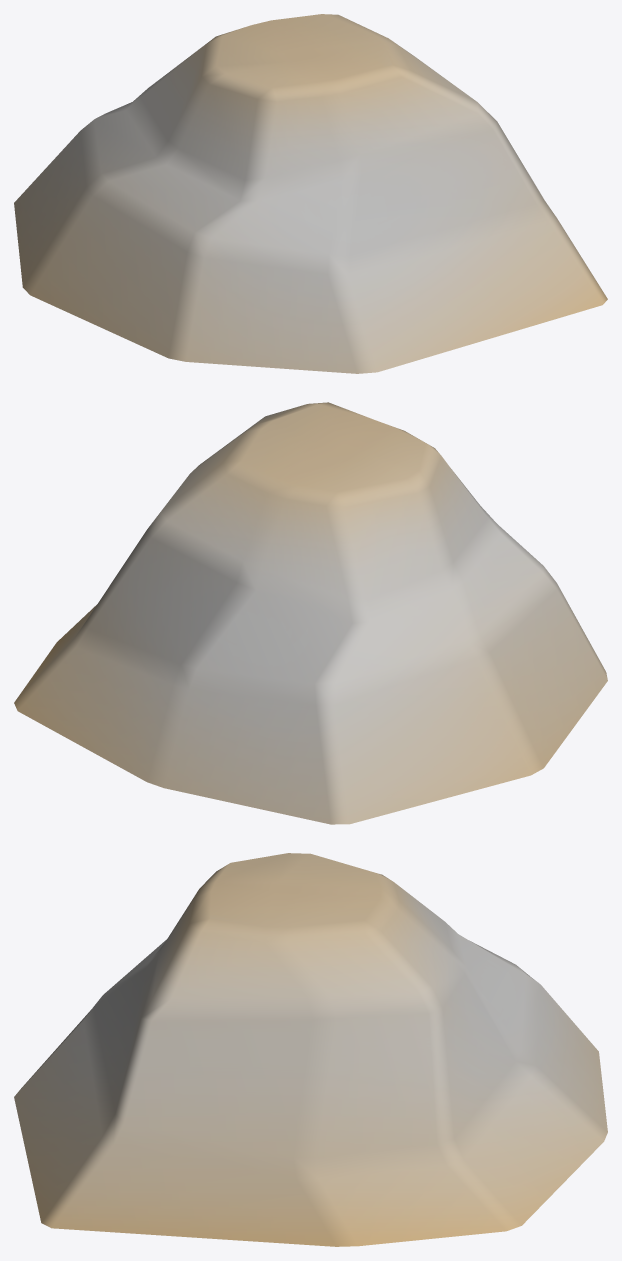
Rendered from stone_smallB__v2.fbx.
3 renders of one model, top to bottom at view 1: azimuth 30°, elevation 25°; view 2: azimuth 150°, elevation 25°; view 3: azimuth 270°, elevation 25°, orthographic. The views are drawn at different scales.
Visible parts, largest first — view 1: stone_smallB; view 2: stone_smallB; view 3: stone_smallB.
Part boxes in pixels (x1,y1,x2,y2): stone_smallB: (14,14,607,373); stone_smallB: (14,402,607,824); stone_smallB: (14,853,607,1246).
Size of the model in its own units: 6.6 by 2.93 by 6.74.
